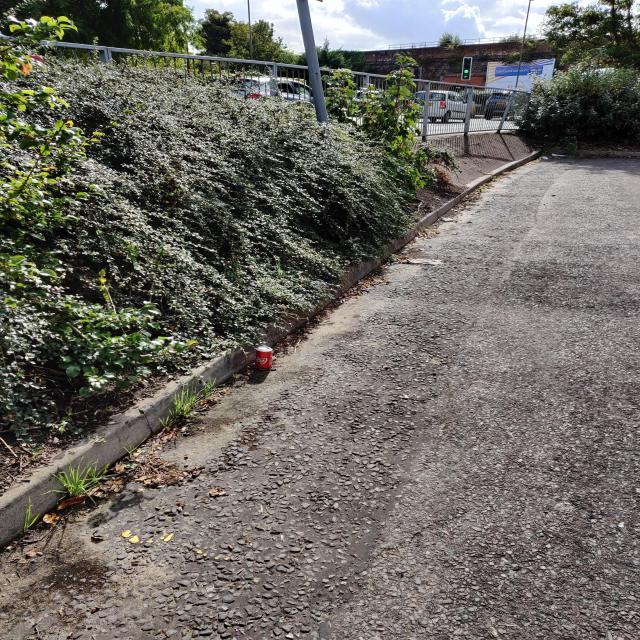litter: (257, 344, 275, 370)
